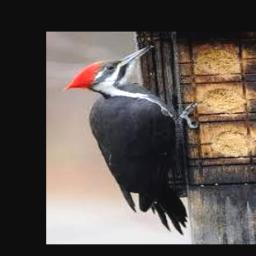Woodpecker: (64, 45, 200, 234)
